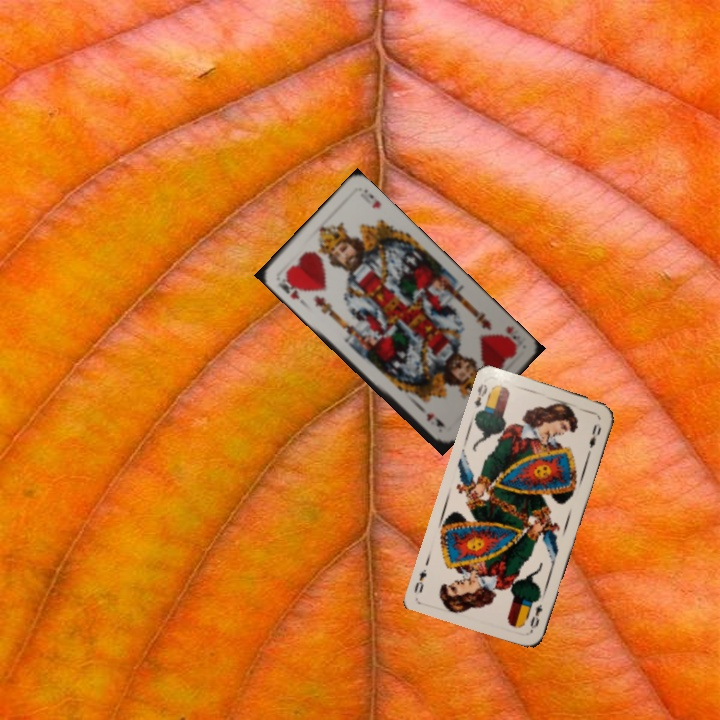EO: (526, 600, 545, 634), (470, 379, 490, 410)
HK: (274, 272, 304, 302), (502, 322, 525, 351)
